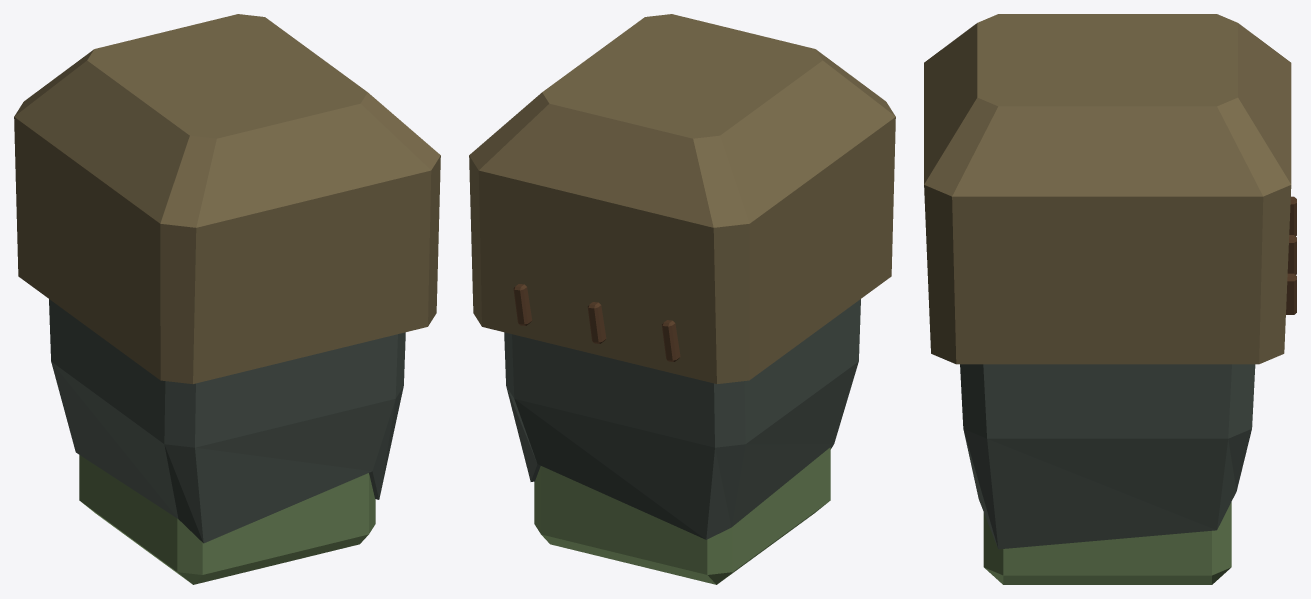
File: ArmRight.glb
3 views of the same model, side by side, from view 1: azimuth 30°, elevation 25°; view 2: azimuth 150°, elevation 25°; view 3: azimuth 270°, elevation 25° (orthographic). The views are drawn at different scales.
Visible parts, largest first — view 1: Sculpture; view 2: Sculpture; view 3: Sculpture.
Boxes of the visible parts, x1,y1,x2,y2 form: Sculpture: (14,14,440,584); Sculpture: (469,14,895,584); Sculpture: (924,14,1296,584).
Bounding box in the file's own units: 0.246 × 0.379 × 0.266.
